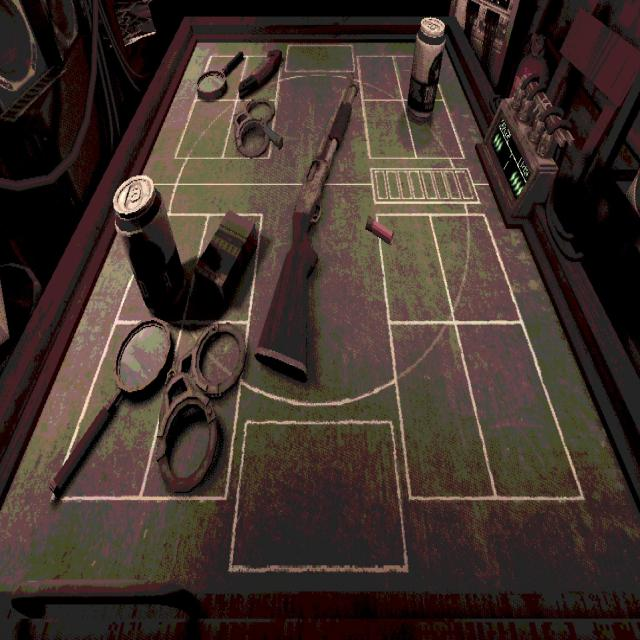can: (113, 175, 189, 320), (407, 18, 449, 123)
cigar: (195, 211, 259, 302)
doubledamage: (238, 49, 282, 98)
handcuff: (157, 322, 246, 495), (234, 100, 283, 158)
lens: (51, 319, 173, 501), (197, 51, 243, 102)
